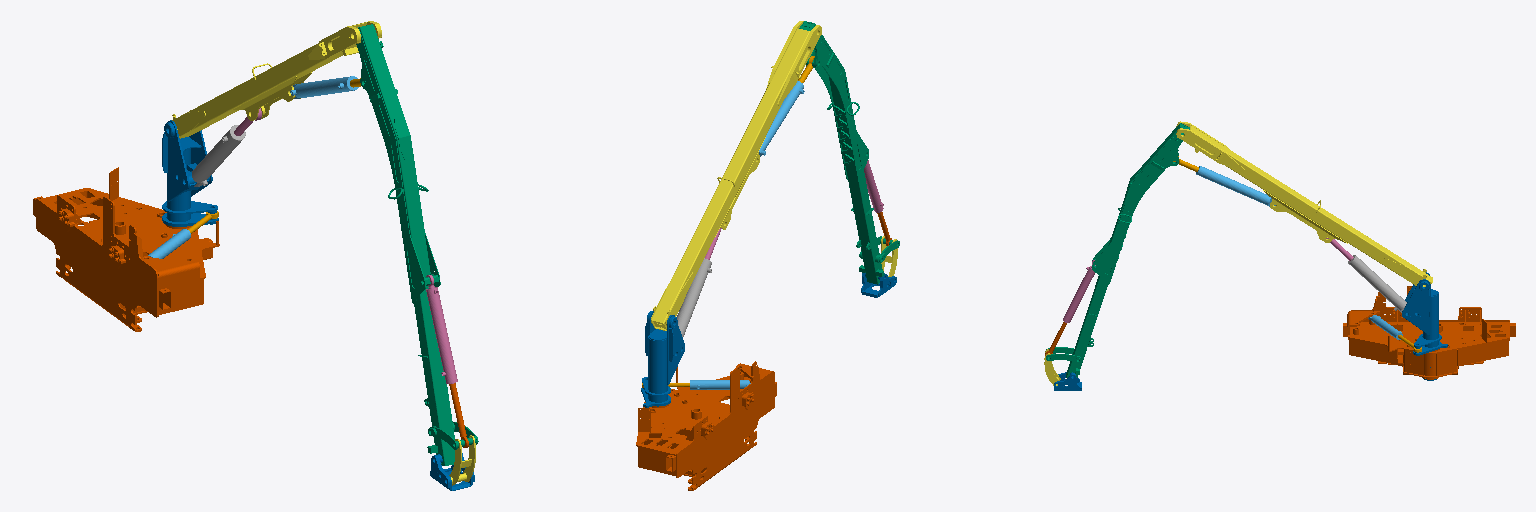
robot.urdf — Mulag_FME_500_with_cylinder:
<robot name="Mulag_FME_500_with_cylinder" version="1.0">
  <joint name="Ausleger-Schwenkzylinder_Kolben_link_joint" type="revolute">
    <limit lower="-3.14000" upper="3.14000" effort="0.00000" velocity="0.00000"/>
    <origin rpy="1.57080 0.00000 -1.03620" xyz="0.17202 -0.12045 0.37049"/>
    <parent link="Drehzapfen_link"/>
    <child link="Ausleger-Schwenkzylinder_Kolben_link"/>
    <axis xyz="0.00000 1.00000 0.00000"/>
  </joint>
  <joint name="Ausleger-Schwenkzylinder_Rohr_link_joint" type="revolute">
    <limit lower="-3.14000" upper="3.14000" effort="0.00000" velocity="0.00000"/>
    <origin rpy="1.57080 -0.00000 2.10539" xyz="0.05000 -0.54499 0.42096"/>
    <parent link="Frontrahmen_link"/>
    <child link="Ausleger-Schwenkzylinder_Rohr_link"/>
    <axis xyz="0.00000 1.00000 0.00000"/>
  </joint>
  <joint name="Ausleger_II_link_joint" type="revolute">
    <limit lower="-1.22111" upper="0.17444" effort="0.00000" velocity="0.00000"/>
    <origin rpy="0.00000 -0.00000 1.78473" xyz="2.74998 -0.00009 0.00000"/>
    <parent link="Ausleger_I_link"/>
    <child link="Ausleger_II_link"/>
    <axis xyz="0.00000 0.00000 1.00000"/>
  </joint>
  <joint name="Ausleger_I_link_joint" type="revolute">
    <limit lower="-0.78500" upper="0.78500" effort="0.00000" velocity="0.00000"/>
    <origin rpy="-1.57080 -0.60387 -1.57080" xyz="-0.00000 -0.06000 0.98999"/>
    <parent link="Drehzapfen_link"/>
    <child link="Ausleger_I_link"/>
    <axis xyz="0.00000 0.00000 1.00000"/>
  </joint>
  <joint name="Drehzapfen_link_joint" type="revolute">
    <limit lower="-1.57000" upper="0.52333" effort="0.00000" velocity="0.00000"/>
    <origin rpy="0.00000 0.00000 0.00000" xyz="0.59500 0.00000 0.05047"/>
    <parent link="Frontrahmen_link"/>
    <child link="Drehzapfen_link"/>
    <axis xyz="0.00000 0.00000 1.00000"/>
  </joint>
  <joint name="Hebezylinder_Kolben_link_joint" type="revolute">
    <limit lower="-3.14000" upper="3.14000" effort="0.00000" velocity="0.00000"/>
    <origin rpy="-2.36725 1.57080 0.58327" xyz="1.01048 0.13129 0.00000"/>
    <parent link="Ausleger_I_link"/>
    <child link="Hebezylinder_Kolben_link"/>
    <axis xyz="-1.00000 0.00000 0.00000"/>
  </joint>
  <joint name="Hebezylinder_Rohr_link_joint" type="revolute">
    <limit lower="-3.14000" upper="3.14000" effort="0.00000" velocity="0.00000"/>
    <origin rpy="0.77586 0.00000 0.00000" xyz="0.00000 -0.22000 0.69499"/>
    <parent link="Drehzapfen_link"/>
    <child link="Hebezylinder_Rohr_link"/>
    <axis xyz="1.00000 0.00000 0.00000"/>
  </joint>
  <joint name="Knickzylinder_Kolben_link_joint" type="revolute">
    <limit lower="-3.14000" upper="3.14000" effort="0.00000" velocity="0.00000"/>
    <origin rpy="-2.74577 1.57080 -1.23392" xyz="0.30639 0.04477 -0.00000"/>
    <parent link="Ausleger_II_link"/>
    <child link="Knickzylinder_Kolben_link"/>
    <axis xyz="-1.00000 0.00000 0.00000"/>
  </joint>
  <joint name="Knickzylinder_Rohr_link_joint" type="revolute">
    <limit lower="-3.14000" upper="3.14000" effort="0.00000" velocity="0.00000"/>
    <origin rpy="-2.98661 -1.57080 0.00000" xyz="1.61246 0.12909 0.00000"/>
    <parent link="Ausleger_I_link"/>
    <child link="Knickzylinder_Rohr_link"/>
    <axis xyz="1.00000 0.00000 0.00000"/>
  </joint>
  <joint name="Messerkopf-Schwenk_Link1_link_joint" type="revolute">
    <limit lower="-3.14000" upper="3.14000" effort="0.00000" velocity="0.00000"/>
    <origin rpy="1.89493 -1.57080 0.00000" xyz="2.53117 -0.01781 -0.00000"/>
    <parent link="Ausleger_II_link"/>
    <child link="Messerkopf-Schwenk_Link1_link"/>
    <axis xyz="1.00000 0.00000 0.00000"/>
  </joint>
  <joint name="Messerkopf-Schwenk_Link2_link_joint" type="revolute">
    <limit lower="-3.14000" upper="3.14000" effort="0.00000" velocity="0.00000"/>
    <origin rpy="-2.60992 -1.57080 -3.01229" xyz="0.13783 -0.10523 -0.00250"/>
    <parent link="Messerkopf-Schwenk_base_link"/>
    <child link="Messerkopf-Schwenk_Link2_link"/>
    <axis xyz="1.00000 0.00000 0.00000"/>
  </joint>
  <joint name="Messerkopf-Schwenkzylinder_Kolben_link_joint" type="revolute">
    <limit lower="-3.14000" upper="3.14000" effort="0.00000" velocity="0.00000"/>
    <origin rpy="0.68821 -0.00000 -3.14159" xyz="0.00750 0.00002 0.28472"/>
    <parent link="Messerkopf-Schwenk_Link2_link"/>
    <child link="Messerkopf-Schwenkzylinder_Kolben_link"/>
    <axis xyz="-1.00000 0.00000 0.00000"/>
  </joint>
  <joint name="Messerkopf-Schwenkzylinder_Rohr_link_joint" type="revolute">
    <limit lower="-3.14000" upper="3.14000" effort="0.00000" velocity="0.00000"/>
    <origin rpy="3.09791 -1.57080 0.00000" xyz="1.58318 -0.23322 0.00019"/>
    <parent link="Ausleger_II_link"/>
    <child link="Messerkopf-Schwenkzylinder_Rohr_link"/>
    <axis xyz="1.00000 0.00000 0.00000"/>
  </joint>
  <joint name="Messerkopf_link_joint" type="revolute">
    <limit lower="-1.04667" upper="1.04667" effort="0.00000" velocity="0.00000"/>
    <origin rpy="2.94854 -1.57080 0.59943" xyz="0.17693 -0.00007 0.00000"/>
    <parent link="Messerkopf-Schwenk_base_link"/>
    <child link="Messerkopf_link"/>
    <axis xyz="0.00000 0.00000 1.00000"/>
  </joint>
  <joint name="Schwenkzylinder.001_link_joint" type="revolute">
    <limit lower="-0.78500" upper="0.78500" effort="0.00000" velocity="0.00000"/>
    <origin rpy="-0.00000 0.00000 -0.01644" xyz="2.71028 0.00005 -0.00000"/>
    <parent link="Ausleger_II_link"/>
    <child link="Messerkopf-Schwenk_base_link"/>
    <axis xyz="0.00000 0.00000 1.00000"/>
  </joint>
  <link name="Ausleger-Schwenkzylinder_Kolben_link">
    <visual name="Ausleger-Schwenkzylinder_Kolben">
      <origin rpy="0.00000 0.00000 0.00000" xyz="0.00000 -0.00000 -0.00000"/>
      <geometry>
        <mesh filename="../meshes/stl/E-026502_FME 500_AP_stl.020.stl" scale="1.00000 1.00000 1.00000"/>
      </geometry>
    </visual>
  </link>
  <link name="Ausleger-Schwenkzylinder_Rohr_link">
    <visual name="Ausleger-Schwenkzylinder_Rohr">
      <origin rpy="-0.00000 0.00000 -0.00000" xyz="-0.00000 -0.00000 0.00000"/>
      <geometry>
        <mesh filename="../meshes/stl/E-026502_FME 500_AP_stl.019.stl" scale="1.00000 1.00000 1.00000"/>
      </geometry>
    </visual>
  </link>
  <link name="Ausleger_II_link">
    <collision name="Ausleger_II_collision">
      <origin rpy="0.00000 -0.00000 0.00000" xyz="1.52778 -0.08901 0.00000"/>
      <geometry>
        <box size="2.40000 0.35148 0.24781"/>
      </geometry>
    </collision>
    <visual name="Ausleger_II">
      <origin rpy="0.00000 -0.00000 0.00000" xyz="-0.00000 0.00000 -0.00000"/>
      <geometry>
        <mesh filename="../meshes/stl/E-026502_FME 500_AP_stl.006.stl" scale="1.00000 1.00000 1.00000"/>
      </geometry>
    </visual>
  </link>
  <link name="Ausleger_I_link">
    <collision name="Ausleger_I_collision">
      <origin rpy="0.00000 0.00000 -0.00000" xyz="1.37682 0.11409 0.00000"/>
      <geometry>
        <box size="2.30000 0.40000 0.24890"/>
      </geometry>
    </collision>
    <visual name="Ausleger_I">
      <origin rpy="0.00000 0.00000 0.00000" xyz="0.00000 0.00000 0.00000"/>
      <geometry>
        <mesh filename="../meshes/stl/E-026502_FME 500_AP_stl.004.stl" scale="1.00000 1.00000 1.00000"/>
      </geometry>
    </visual>
  </link>
  <link name="Drehzapfen_link">
    <collision name="Drehzapfen_collision">
      <origin rpy="0.00000 0.00000 0.00000" xyz="0.04191 -0.05484 0.63348"/>
      <geometry>
        <box size="0.34021 0.43031 0.50000"/>
      </geometry>
    </collision>
    <visual name="Drehzapfen">
      <origin rpy="0.00000 0.00000 0.00000" xyz="0.00000 0.00000 0.00000"/>
      <geometry>
        <mesh filename="../meshes/stl/E-026502_FME 500_AP_stl.002.stl" scale="1.00000 1.00000 1.00000"/>
      </geometry>
    </visual>
  </link>
  <link name="Frontrahmen_link">
    <collision name="Frontrahmen_collision">
      <origin rpy="0.00000 0.00000 0.00000" xyz="0.18231 -0.01350 0.14256"/>
      <geometry>
        <box size="0.60000 1.61698 0.45000"/>
      </geometry>
    </collision>
    <collision name="Frontrahmen_collision.000">
      <origin rpy="0.00000 0.00000 0.00000" xyz="-0.49687 -0.01350 0.31823"/>
      <geometry>
        <box size="0.76899 3.00000 1.80000"/>
      </geometry>
    </collision>
    <visual name="Frontrahmen">
      <origin rpy="0.00000 0.00000 0.00000" xyz="0.00000 0.00000 0.00000"/>
      <geometry>
        <mesh filename="../meshes/stl/E-026502_FME 500_AP_stl.003.stl" scale="1.00000 1.00000 1.00000"/>
      </geometry>
    </visual>
  </link>
  <link name="Hebezylinder_Kolben_link">
    <visual name="Hebezylinder_Kolben">
      <origin rpy="-0.00000 -0.00000 -0.00000" xyz="0.00000 -0.00000 0.00000"/>
      <geometry>
        <mesh filename="../meshes/stl/E-026502_FME 500_AP_stl.018.stl" scale="1.00000 1.00000 1.00000"/>
      </geometry>
    </visual>
  </link>
  <link name="Hebezylinder_Rohr_link">
    <visual name="Hebezylinder_Rohr">
      <origin rpy="-0.00000 0.00000 0.00000" xyz="-0.00000 -0.00000 -0.00000"/>
      <geometry>
        <mesh filename="../meshes/stl/E-026502_FME 500_AP_stl.017.stl" scale="1.00000 1.00000 1.00000"/>
      </geometry>
    </visual>
  </link>
  <link name="Knickzylinder_Kolben_link">
    <visual name="Knickzylinder_Kolben">
      <origin rpy="0.00000 -0.00000 -0.00000" xyz="-0.00000 -0.00000 0.00000"/>
      <geometry>
        <mesh filename="../meshes/stl/E-026502_FME 500_AP_stl.016.stl" scale="1.00000 1.00000 1.00000"/>
      </geometry>
    </visual>
  </link>
  <link name="Knickzylinder_Rohr_link">
    <visual name="Knickzylinder_Rohr">
      <origin rpy="0.00000 0.00000 -0.00000" xyz="-0.00000 -0.00000 -0.00000"/>
      <geometry>
        <mesh filename="../meshes/stl/E-026502_FME 500_AP_stl.015.stl" scale="1.00000 1.00000 1.00000"/>
      </geometry>
    </visual>
  </link>
  <link name="Messerkopf-Schwenk_Link1_link">
    <visual name="Messerkopf-Schwenk_Link1">
      <origin rpy="-0.00000 0.00000 -0.00000" xyz="0.00000 0.00000 -0.00000"/>
      <geometry>
        <mesh filename="../meshes/stl/E-026502_FME 500_AP_stl.012.stl" scale="1.00000 1.00000 1.00000"/>
      </geometry>
    </visual>
  </link>
  <link name="Messerkopf-Schwenk_Link2_link">
    <visual name="Messerkopf-Schwenk_Link2">
      <origin rpy="-0.00000 -0.00000 0.00000" xyz="-0.00000 0.00000 0.00000"/>
      <geometry>
        <mesh filename="../meshes/stl/E-026502_FME 500_AP_stl.011.stl" scale="1.00000 1.00000 1.00000"/>
      </geometry>
    </visual>
  </link>
  <link name="Messerkopf-Schwenk_base_link">
    <visual name="Messerkopf-Schwenk_base">
      <origin rpy="0.00000 -0.00000 0.00000" xyz="0.00000 0.00000 0.00000"/>
      <geometry>
        <mesh filename="../meshes/stl/E-026502_FME 500_AP_stl.001.stl" scale="1.00000 1.00000 1.00000"/>
      </geometry>
    </visual>
  </link>
  <link name="Messerkopf-Schwenkzylinder_Kolben_link">
    <visual name="Messerkopf-Schwenkzylinder_Kolben">
      <origin rpy="-0.00000 -0.00000 -0.00000" xyz="0.00000 0.00000 0.00000"/>
      <geometry>
        <mesh filename="../meshes/stl/E-026502_FME 500_AP_stl.014.stl" scale="1.00000 1.00000 1.00000"/>
      </geometry>
    </visual>
  </link>
  <link name="Messerkopf-Schwenkzylinder_Rohr_link">
    <visual name="Messerkopf-Schwenkzylinder_Rohr">
      <origin rpy="-0.00000 0.00000 0.00000" xyz="-0.00000 -0.00000 0.00000"/>
      <geometry>
        <mesh filename="../meshes/stl/E-026502_FME 500_AP_stl.013.stl" scale="1.00000 1.00000 1.00000"/>
      </geometry>
    </visual>
  </link>
  <link name="Messerkopf_link">
    <collision name="Messerkopf_collision">
      <origin rpy="-0.00000 -0.00000 -0.00000" xyz="0.37816 -0.03350 0.24927"/>
      <geometry>
        <box size="1.06631 1.45698 0.55755"/>
      </geometry>
    </collision>
    <visual name="Messerkopf">
      <origin rpy="-0.00000 -0.00000 -0.00000" xyz="-0.00000 -0.00000 0.00000"/>
      <material name="Material.001"/>
      <geometry>
        <mesh filename="../meshes/stl/E-026502_FME 500_AP_stl.009.stl" scale="1.00000 1.00000 1.00000"/>
      </geometry>
    </visual>
  </link>
  <material name="Material.001">
    <color rgba="0.80000 0.80000 0.80000 1.00000"/>
  </material>
</robot>

--- What the picture shows (computed from the rendered views, not written in the file) ---
The picture shows the robot from 3 angles, left to right: view 1: azimuth 30°, elevation 25°; view 2: azimuth 150°, elevation 25°; view 3: azimuth 270°, elevation 25°; orthographic projection.
Robot: Mulag_FME_500_with_cylinder — 16 links, 15 joints (15 revolute); root link Frontrahmen_link; default pose: all joints at 0.
Visible links, largest first — view 1: Frontrahmen_link, Ausleger_II_link, Ausleger_I_link, Drehzapfen_link, Messerkopf-Schwenkzylinder_Rohr_link, Hebezylinder_Rohr_link, Knickzylinder_Rohr_link, Messerkopf-Schwenk_Link2_link, Messerkopf-Schwenk_base_link; view 2: Frontrahmen_link, Ausleger_I_link, Ausleger_II_link, Drehzapfen_link, Hebezylinder_Rohr_link, Knickzylinder_Rohr_link; view 3: Frontrahmen_link, Ausleger_I_link, Ausleger_II_link, Drehzapfen_link, Hebezylinder_Rohr_link, Knickzylinder_Rohr_link.
Link boxes in pixels (box(x1,y1,x2,y2)): Frontrahmen_link: box(33, 167, 219, 331); Ausleger_II_link: box(356, 24, 454, 465); Ausleger_I_link: box(172, 21, 381, 138); Drehzapfen_link: box(162, 120, 218, 226); Messerkopf-Schwenkzylinder_Rohr_link: box(426, 275, 457, 383); Hebezylinder_Rohr_link: box(192, 125, 245, 186); Knickzylinder_Rohr_link: box(290, 76, 358, 98); Messerkopf-Schwenk_Link2_link: box(449, 435, 475, 485); Messerkopf-Schwenk_base_link: box(430, 453, 474, 490); Frontrahmen_link: box(636, 361, 776, 490); Ausleger_I_link: box(651, 21, 821, 330); Ausleger_II_link: box(799, 21, 884, 284); Drehzapfen_link: box(641, 311, 684, 407); Hebezylinder_Rohr_link: box(677, 258, 711, 336); Knickzylinder_Rohr_link: box(759, 81, 804, 156); Frontrahmen_link: box(1343, 286, 1515, 379); Ausleger_I_link: box(1176, 121, 1432, 286); Ausleger_II_link: box(1066, 123, 1189, 377); Drehzapfen_link: box(1402, 272, 1447, 380); Hebezylinder_Rohr_link: box(1348, 255, 1406, 312); Knickzylinder_Rohr_link: box(1196, 166, 1275, 206).
Bounding box of the posed robot: 0.871 × 4.41 × 2.75 m (x, y, z).
15 mesh visuals loaded from 16 distinct referenced files (15 binary STL); not drawn: 1 (reference not matched to a file when rendering).
